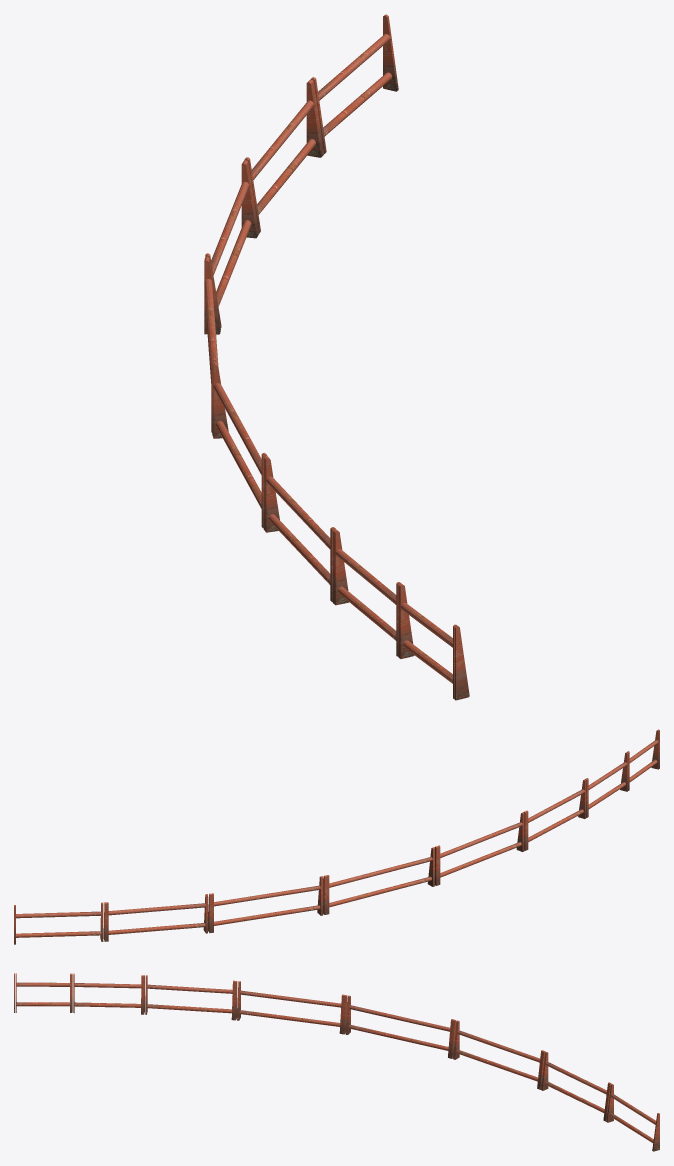
Rendered from bridge1_railing3_curve1_1.fbx.
The picture shows the model from 3 angles, top to bottom: view 1: azimuth 30°, elevation 25°; view 2: azimuth 150°, elevation 25°; view 3: azimuth 270°, elevation 25°; orthographic projection. The views are drawn at different scales.
Parts seen in each view (by area): view 1: railing.005; view 2: railing.005; view 3: railing.005.
Boxes of the visible parts, box(x1,y1,x2,y2) form: railing.005: box(204, 14, 469, 700); railing.005: box(14, 729, 659, 944); railing.005: box(14, 973, 659, 1151).
Size of the model in its own units: 8.3 by 1 by 15.96.
